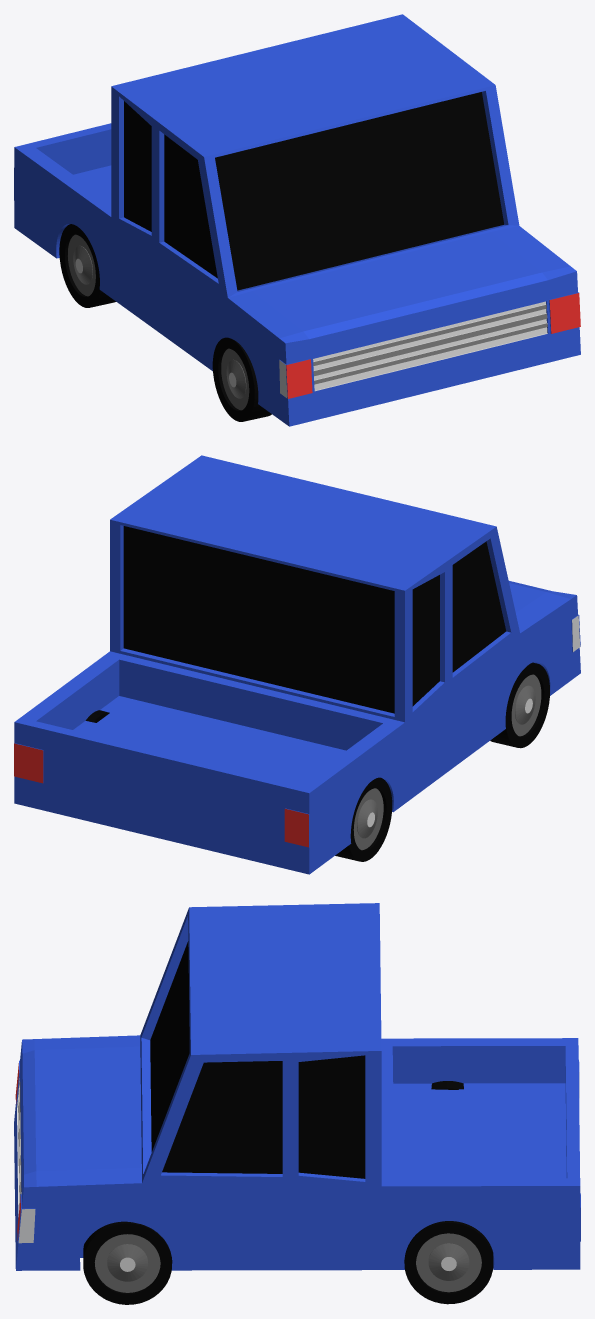
Rendered from Truck01.glb.
The picture shows the model from 3 angles, top to bottom: view 1: azimuth 30°, elevation 25°; view 2: azimuth 150°, elevation 25°; view 3: azimuth 270°, elevation 25°; orthographic projection. The views are drawn at different scales.
Parts seen in each view (by area): view 1: Cube.001; view 2: Cube.001; view 3: Cube.001.
Part boxes in pixels (x1=…): Cube.001: x1=14, y1=14, x2=580, y2=426; Cube.001: x1=14, y1=455, x2=580, y2=874; Cube.001: x1=14, y1=903, x2=580, y2=1304.
Bounding box in the file's own units: 2.17 × 1.69 × 3.45.
